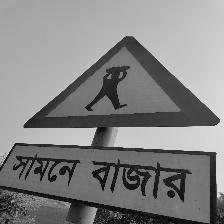Market-in-front: (5, 36, 220, 224)
